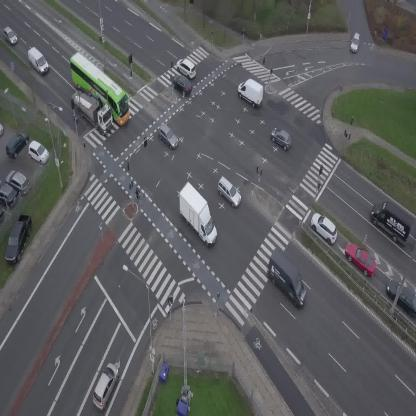bicycle: (133, 186, 143, 205)
bus: (60, 48, 141, 126)
car: (340, 237, 382, 281), (88, 361, 123, 411), (305, 209, 343, 247), (212, 175, 246, 209), (167, 70, 197, 100), (153, 122, 183, 151), (266, 124, 296, 152), (173, 55, 200, 82), (0, 25, 20, 48), (349, 32, 361, 53)
lorry: (166, 181, 231, 247), (256, 247, 317, 309), (64, 82, 121, 137), (233, 74, 269, 110), (23, 45, 52, 75)
